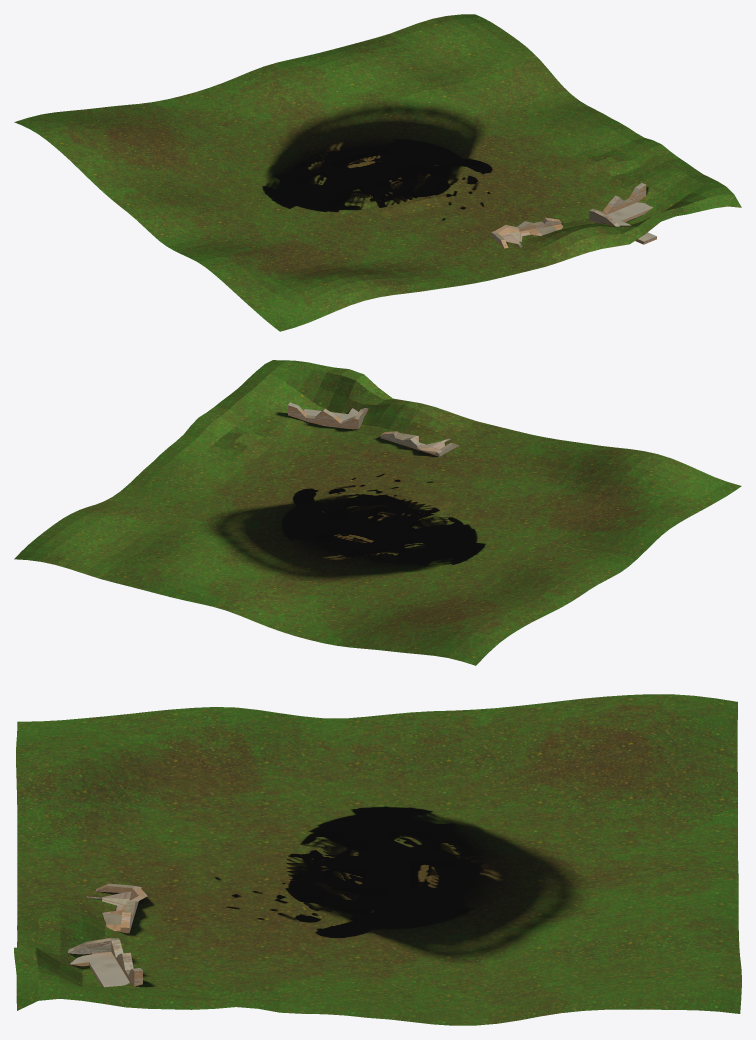
File: colera2finalFloor.glb
The picture shows the model from 3 angles, top to bottom: view 1: azimuth 30°, elevation 25°; view 2: azimuth 150°, elevation 25°; view 3: azimuth 270°, elevation 25°; orthographic projection. The views are drawn at different scales.
Visible parts, largest first — view 1: Cube.186; view 2: Cube.186; view 3: Cube.186.
Boxes of the visible parts, x1=… form: Cube.186: x1=14, y1=14, x2=741, y2=331; Cube.186: x1=14, y1=360, x2=741, y2=665; Cube.186: x1=14, y1=694, x2=741, y2=1025.
Size of the model in its own units: 1315 by 77.97 by 1318.
Materials: 2 (2 with a texture image).
